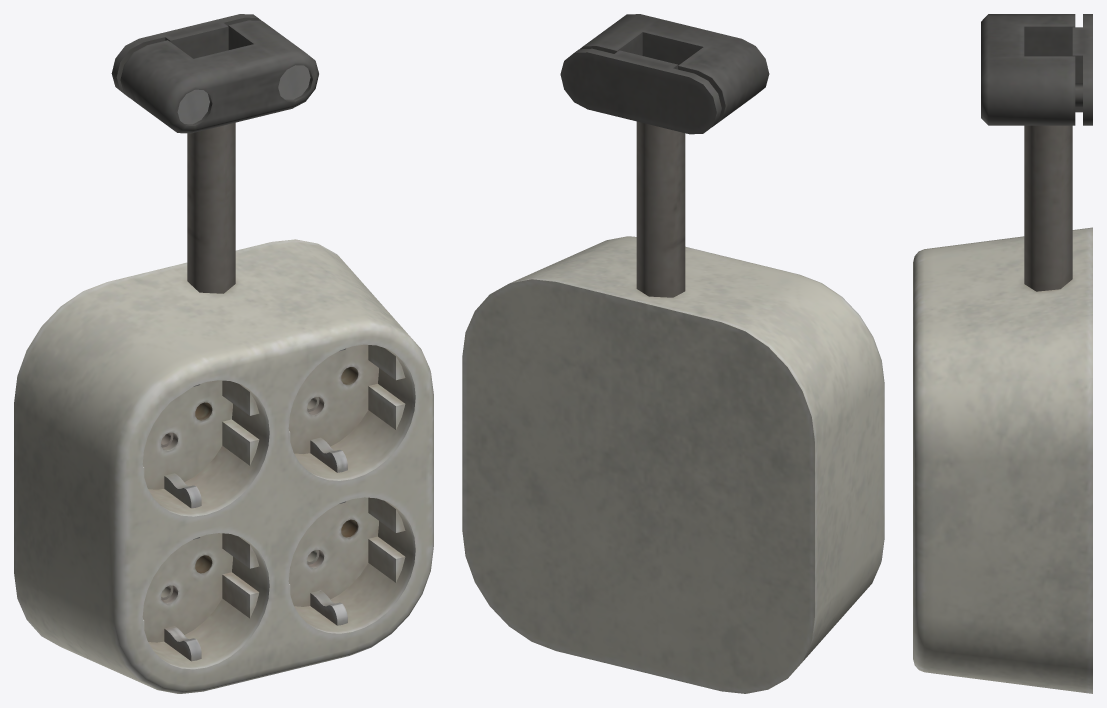
The model's file is cable_cable_plug_4x.fbx.
3 renders of one model, left to right at view 1: azimuth 30°, elevation 25°; view 2: azimuth 150°, elevation 25°; view 3: azimuth 270°, elevation 25°, orthographic.
Parts seen in each view (by area): view 1: modular_electric_cables_boxes__cable_plug_4x; view 2: modular_electric_cables_boxes__cable_plug_4x; view 3: modular_electric_cables_boxes__cable_plug_4x.
Boxes of the visible parts, left/top/right/bottom form: modular_electric_cables_boxes__cable_plug_4x: left=14, top=14, right=433, bottom=693; modular_electric_cables_boxes__cable_plug_4x: left=462, top=14, right=884, bottom=693; modular_electric_cables_boxes__cable_plug_4x: left=913, top=14, right=1092, bottom=693.
Size of the model in its own units: 0.0939 by 0.1542 by 0.0417.
